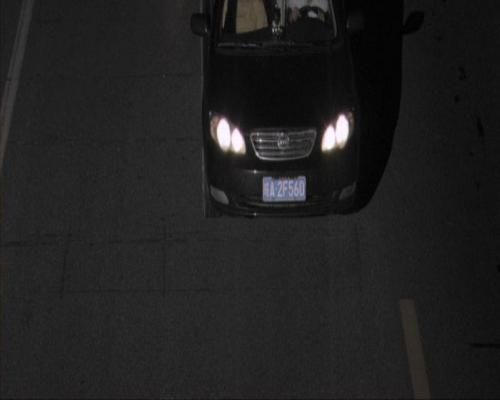Carplate: (257, 165, 312, 213)
